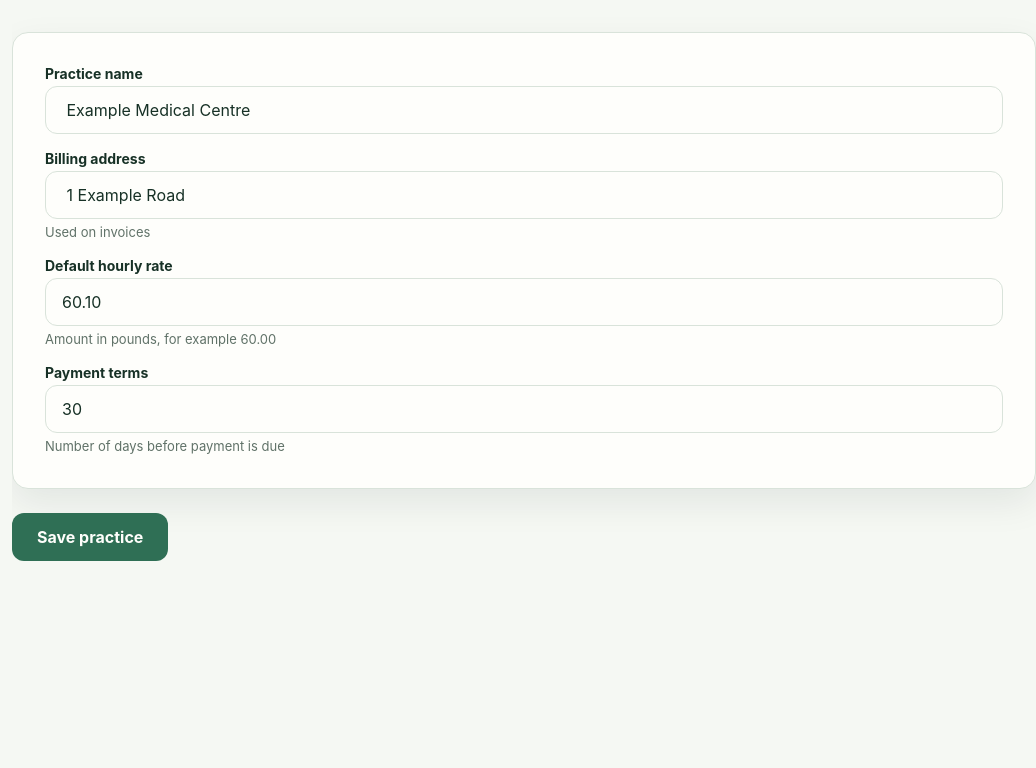
PracticeForm › requires non-negative whole-number payment terms: -1
This screenshot has width=1036, height=768.
Replace the text in the field labelled "Payment terms" with "-1" at {"x": 524, "y": 409}, box [45, 385, 1003, 433]
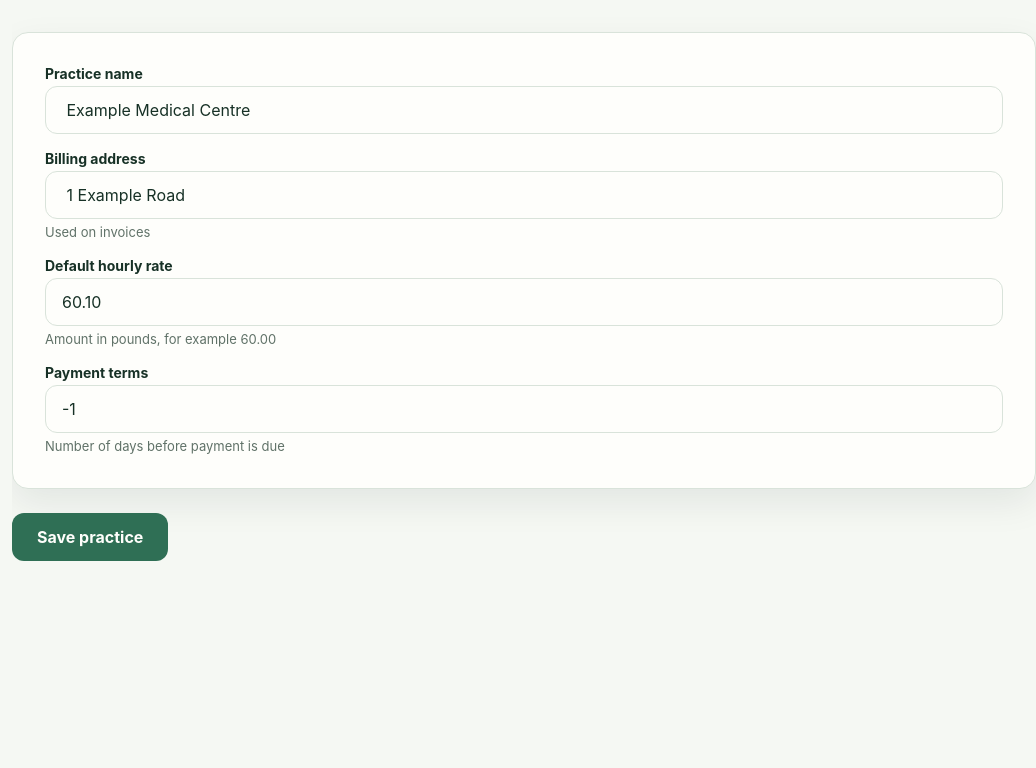
Click the button "Save practice" at {"x": 90, "y": 537}, box [12, 513, 168, 561]
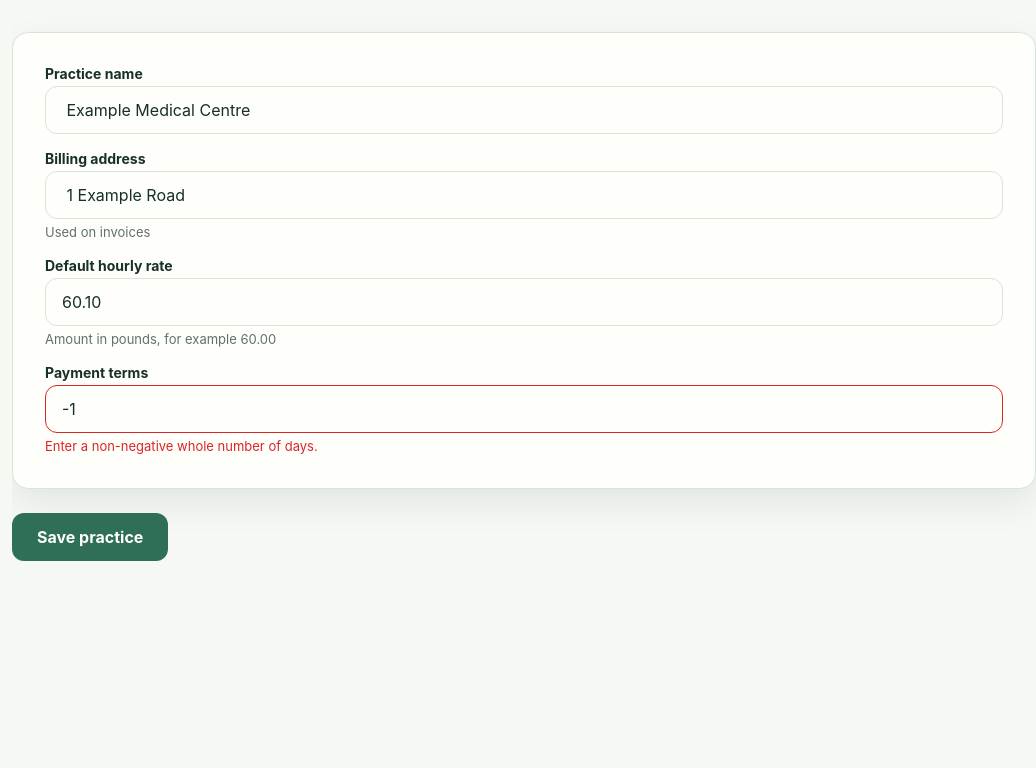
expect the text "Enter a non-negative whole number of days." is shown: met, box [45, 438, 318, 454]
